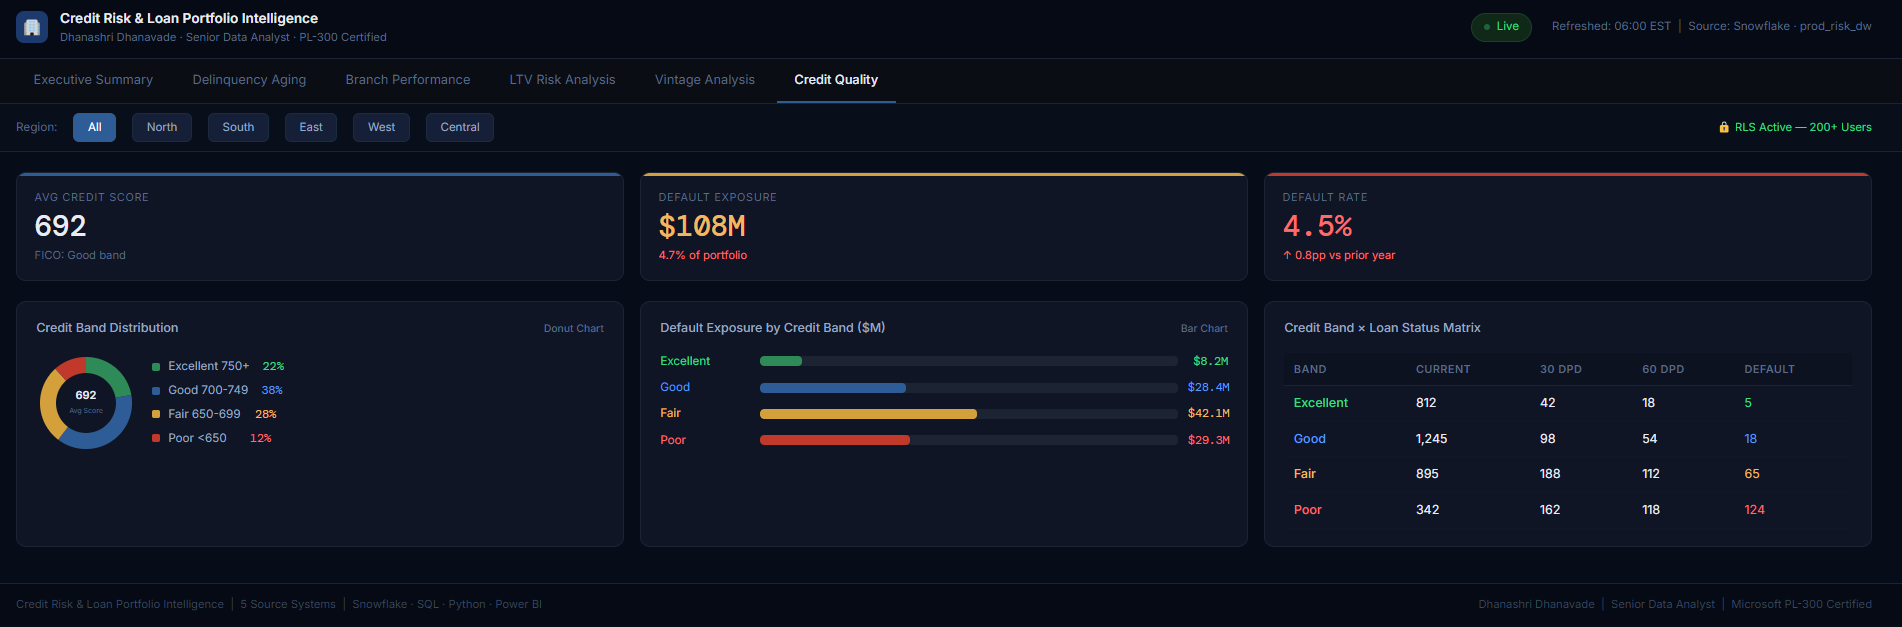

The page's visual inventory and layout, read from the dashboard file:
{"tool":"powerbi","page":{"name":"Credit Quality","canvas":[1280,720],"ordinal":5},"visuals":[{"type":"textbox","box":[10,0,280,280],"z":0},{"type":"donutChart","fields":{"Category":["pbi_master_loans.CreditBand"],"Y":["CountNonNull(pbi_master_loans.LoanID)"]},"box":[10,290,280,280],"z":1},{"type":"clusteredBarChart","fields":{"Category":["pbi_master_loans.CreditBand"],"Y":["pbi_master_loans.Default Exposure $M"]},"box":[472,289.5,279.4,149.8],"z":2},{"type":"pivotTable","fields":{"Rows":["pbi_master_loans.CreditBand"],"Columns":["pbi_master_loans.LoanStatus"],"Values":["CountNonNull(pbi_master_loans.LoanID)"]},"box":[761,0,280,280],"z":3},{"type":"kpi","fields":{"TrendLine":["pbi_vintage.AvgCreditScore"]},"box":[761,289,280,150],"z":4},{"type":"kpi","fields":{"Indicator":["pbi_master_loans.Default Exposure $M"]},"box":[1051,0,229,280],"z":5},{"type":"slicer","fields":{"Values":["pbi_master_loans.Region"]},"box":[1051,289,229,150],"z":6}]}

Visuals, with their boxes on the page's 1280x720 design canvas (x1, y1, x2, y2). These are canvas units, not pixel positions in the 1902x627 screenshot, which may show the page scaled, cropped or inside an application window:
textbox: [x1=10, y1=0, x2=290, y2=280]
donutChart - pbi_master_loans.CreditBand x CountNonNull(pbi_master_loans.LoanID): [x1=10, y1=290, x2=290, y2=570]
clusteredBarChart - pbi_master_loans.CreditBand x pbi_master_loans.Default Exposure $M: [x1=472, y1=290, x2=751, y2=439]
pivotTable - pbi_master_loans.CreditBand x pbi_master_loans.LoanStatus: [x1=761, y1=0, x2=1041, y2=280]
kpi - pbi_vintage.AvgCreditScore: [x1=761, y1=289, x2=1041, y2=439]
kpi - pbi_master_loans.Default Exposure $M: [x1=1051, y1=0, x2=1280, y2=280]
slicer - pbi_master_loans.Region: [x1=1051, y1=289, x2=1280, y2=439]
